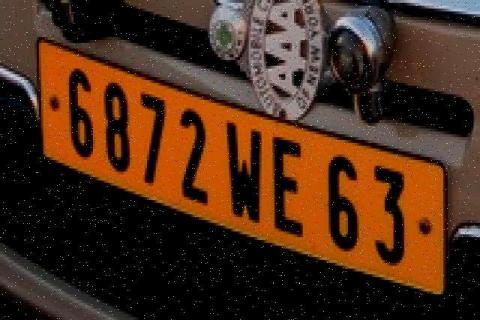LicensePlate: (35, 32, 450, 298)
